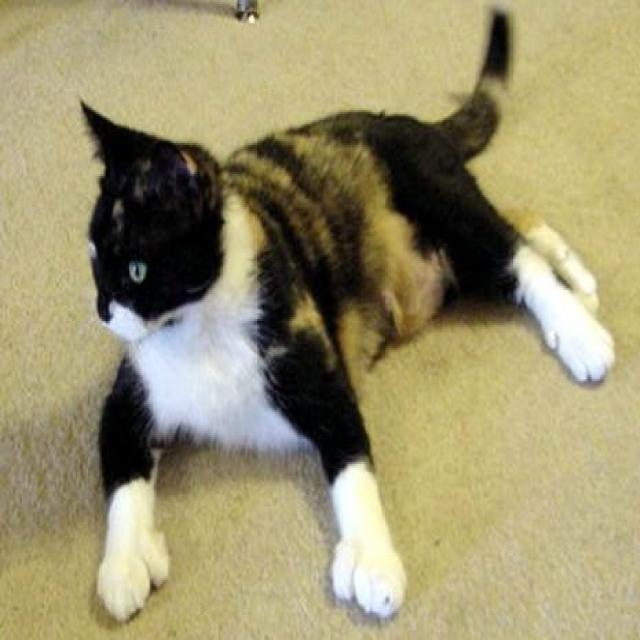cats: (80, 8, 614, 624)
